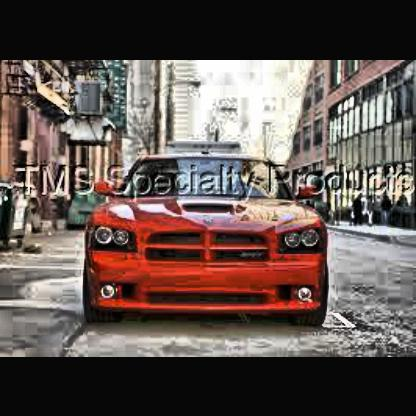Dodge Charger SRT-8 2009: (86, 154, 333, 324)
